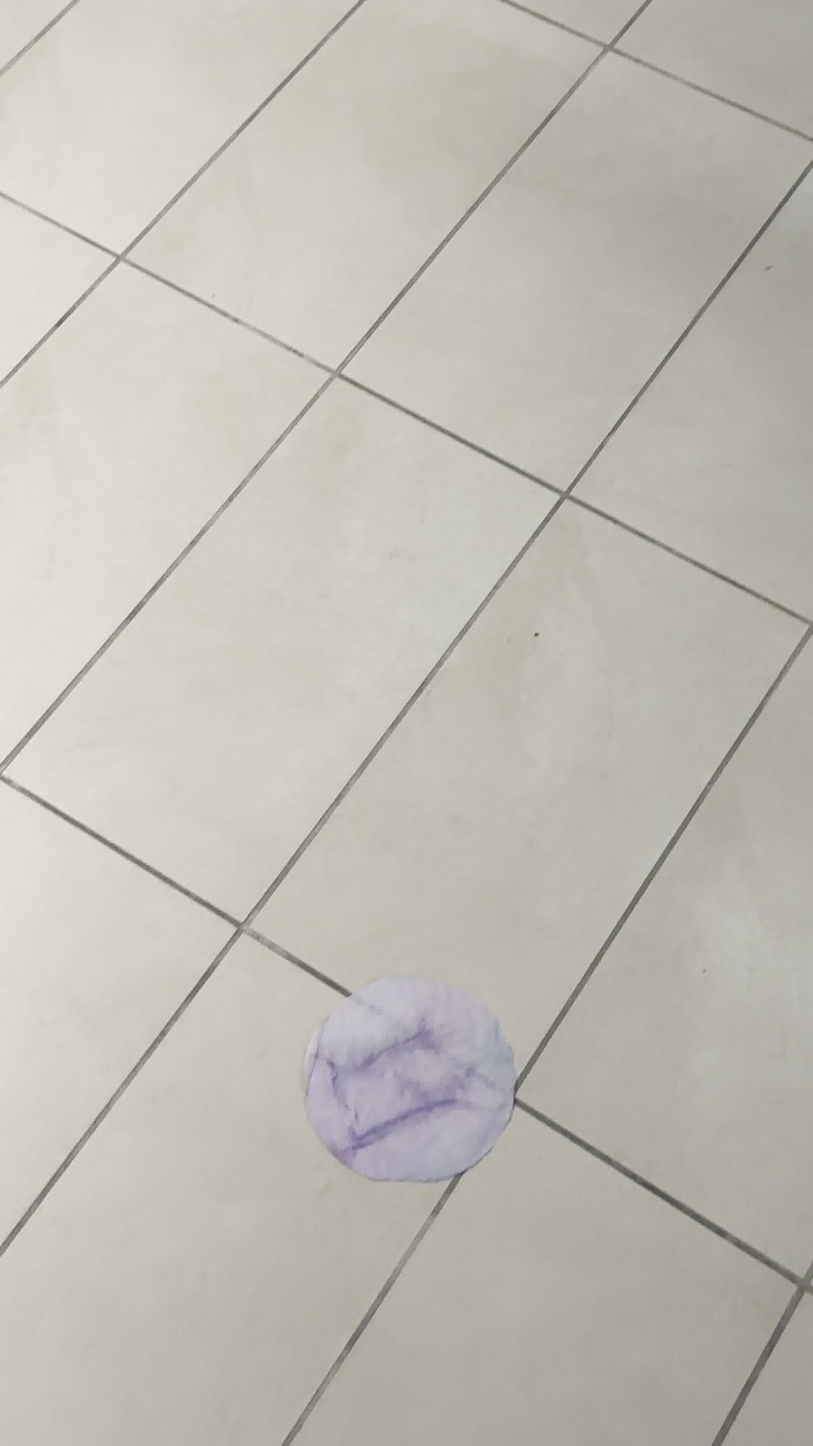Target: (301, 978, 516, 1185)
